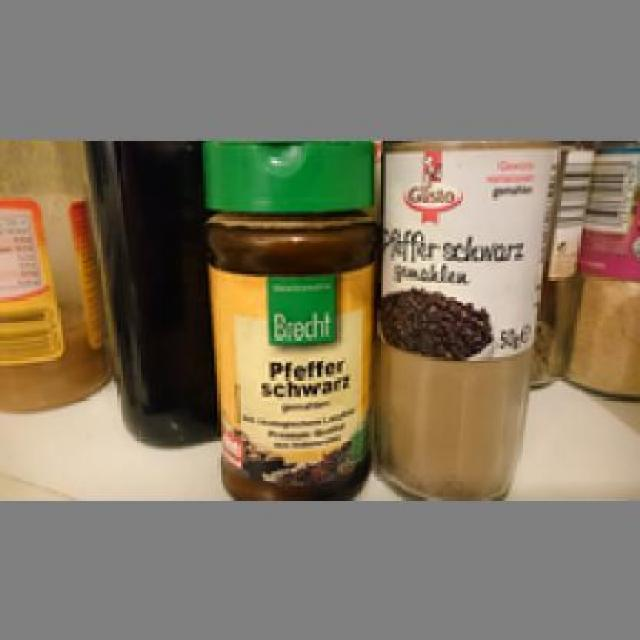Spices: (374, 137, 560, 494), (200, 140, 374, 494)
